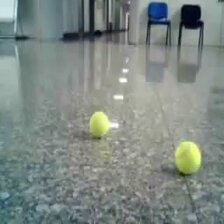tennis: (175, 140, 202, 174), (88, 111, 109, 137)
